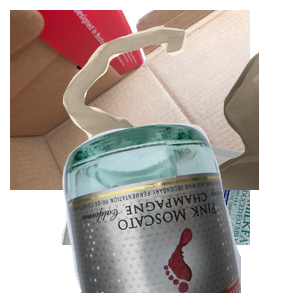cardboard: (10, 10, 250, 190)
glass: (60, 120, 300, 300)
plastic: (58, 120, 298, 300)
trash: (60, 23, 300, 203)
